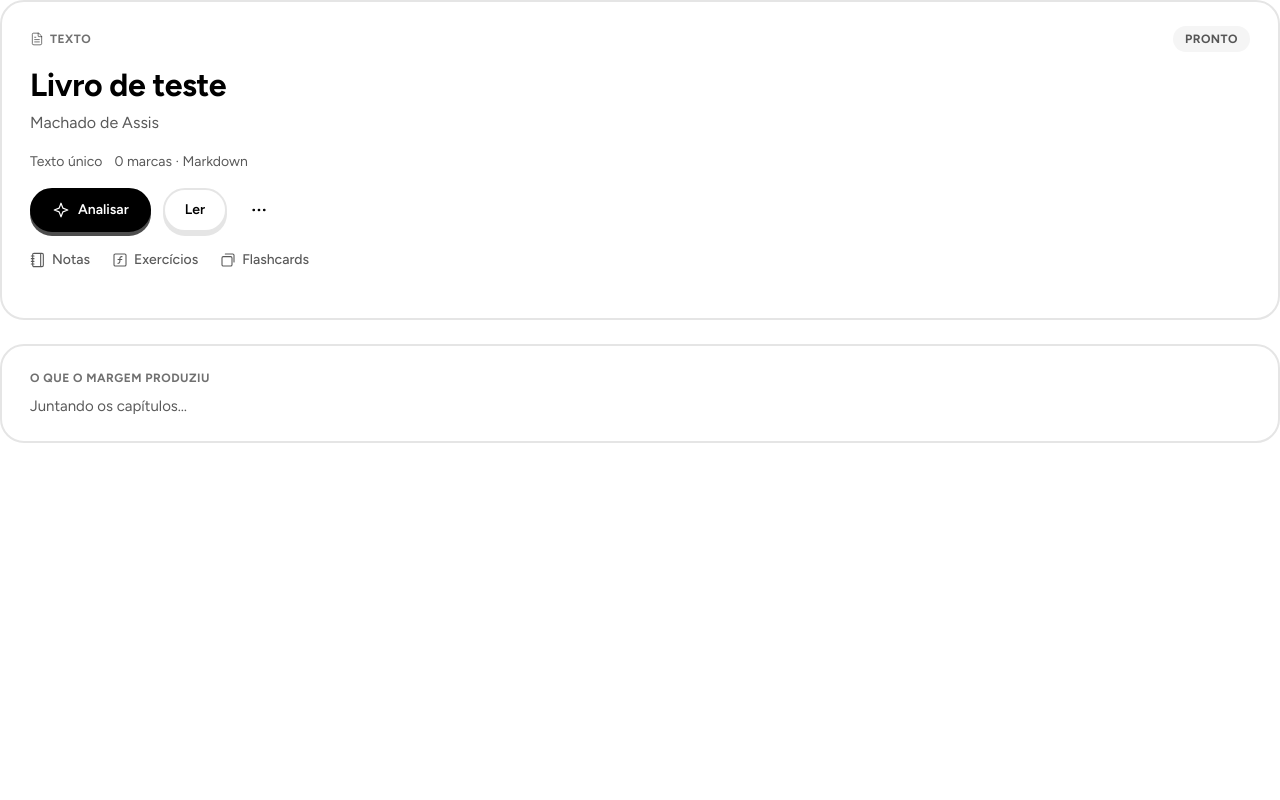
Test: detalhe do documento › mostra limites da canonização; "Analisar" é o botão principal, abre a janela do que criar e mostra o estado
This screenshot has width=1280, height=800.
Click the button named "Opções do documento".
click(259, 210)  # box top-left (239, 190), bottom-right (279, 230)
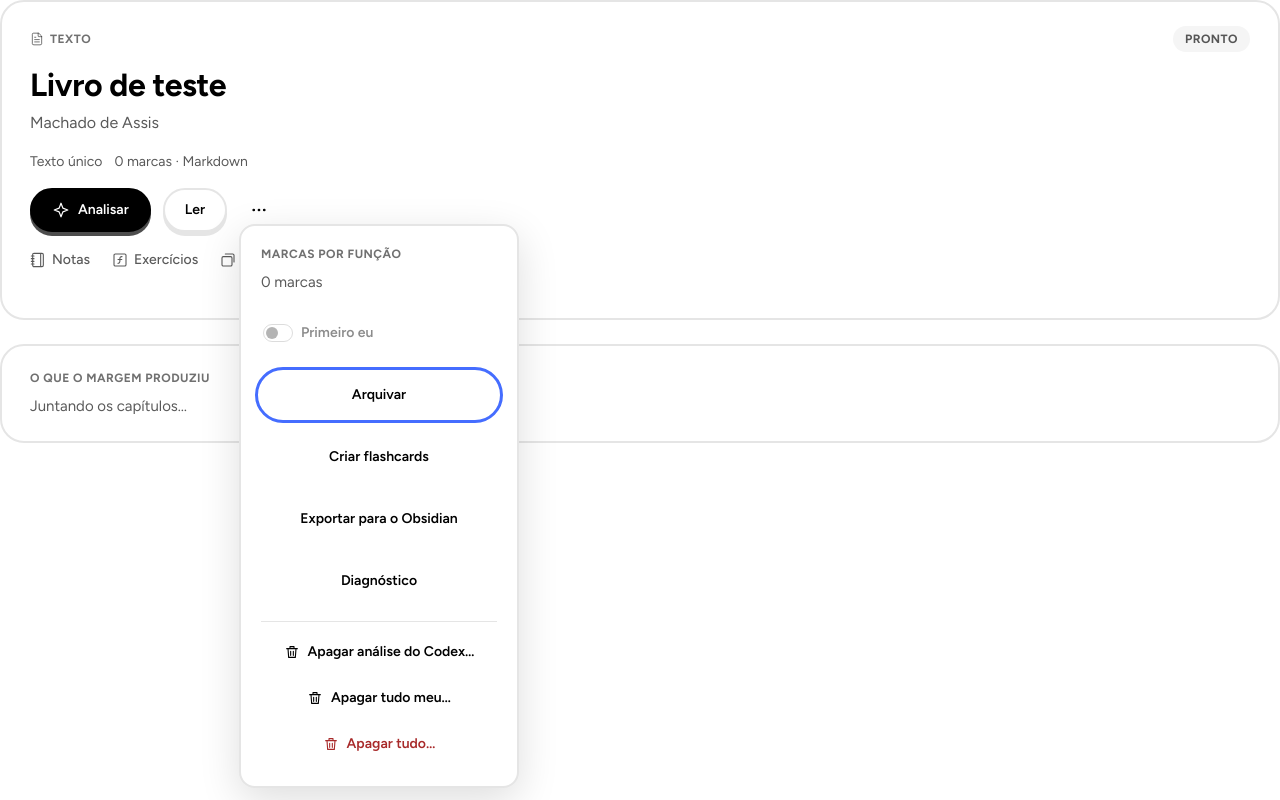
Click the button "Diagnóstico".
click(379, 581)  # box top-left (261, 559), bottom-right (497, 603)
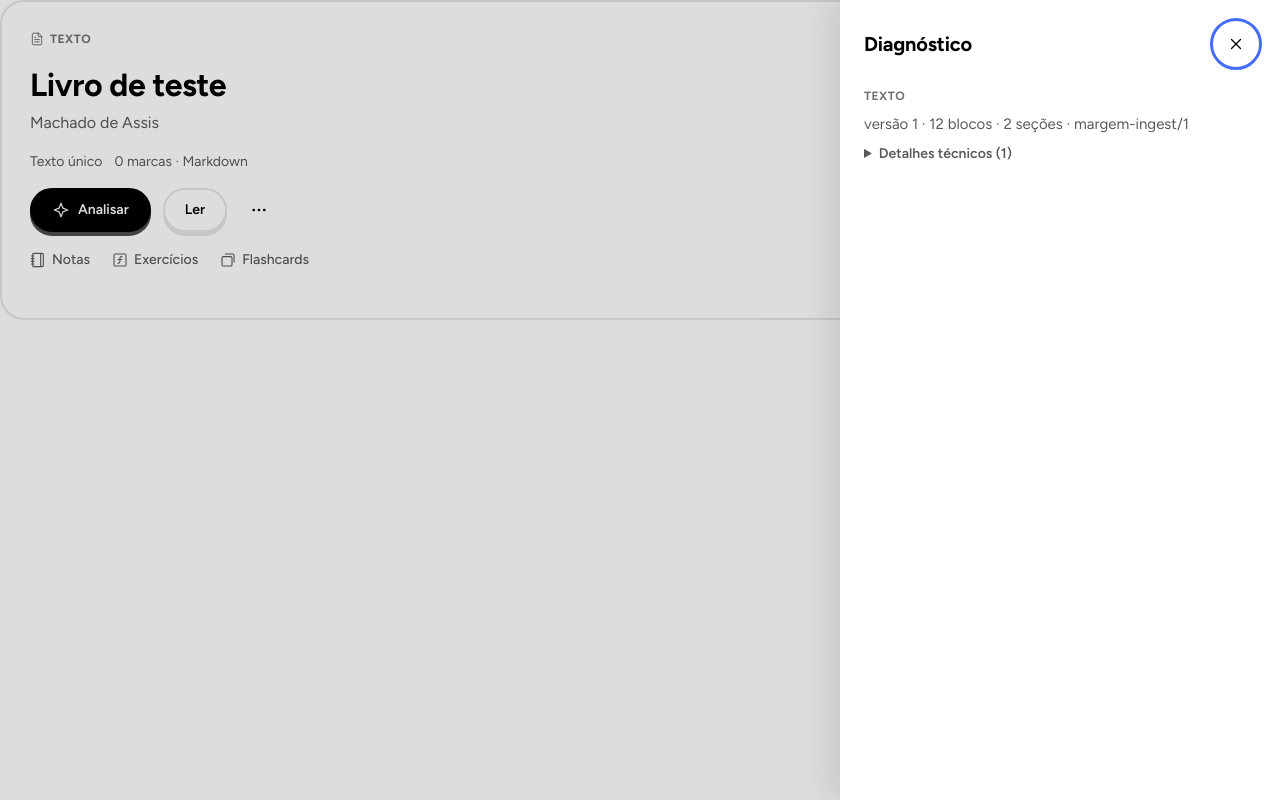
expect the text "versão 1 · 12 blocos · 2 seções · margem-ingest/1" is shown: met, box top-left (864, 115), bottom-right (1189, 133)
Click the button named "Fechar".
click(1236, 44)  # box top-left (1216, 24), bottom-right (1256, 64)
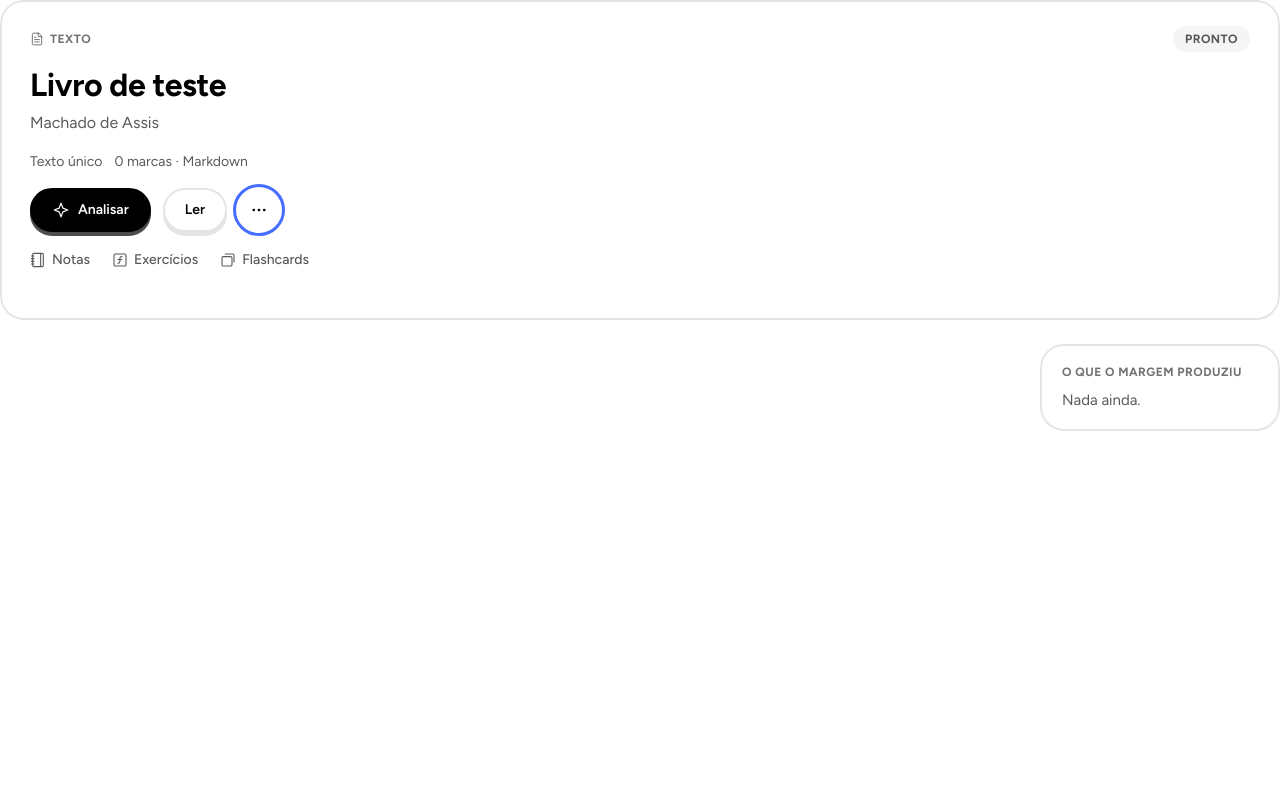
expect the links read "Notas", "Exercícios", "Flashcards", in this order: met, box top-left (30, 246), bottom-right (90, 274); top-left (112, 246), bottom-right (198, 274); top-left (220, 246), bottom-right (309, 274)
Note: O botão abre a janela: o que criar, com o padrão marcado (grifos e relações).
Click the button "Analisar".
click(90, 210)  # box top-left (30, 188), bottom-right (151, 232)
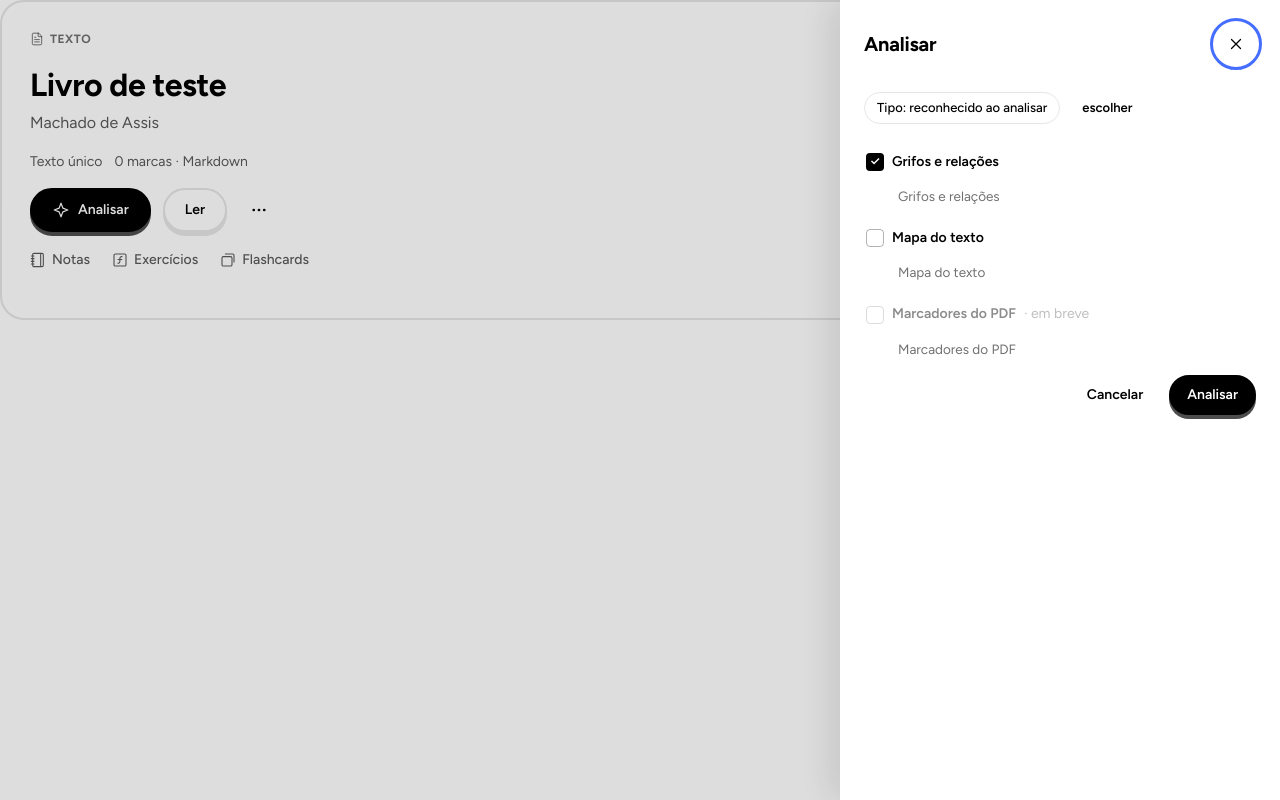
expect the checkbox labelled "Marcadores do PDF · em breve" is disabled: met, box top-left (864, 292), bottom-right (1091, 336)
Note: Texto único: sem "capítulo" nos rótulos.
Click the checkbox labelled "Mapa do texto".
click(925, 238)  # box top-left (864, 216), bottom-right (986, 260)
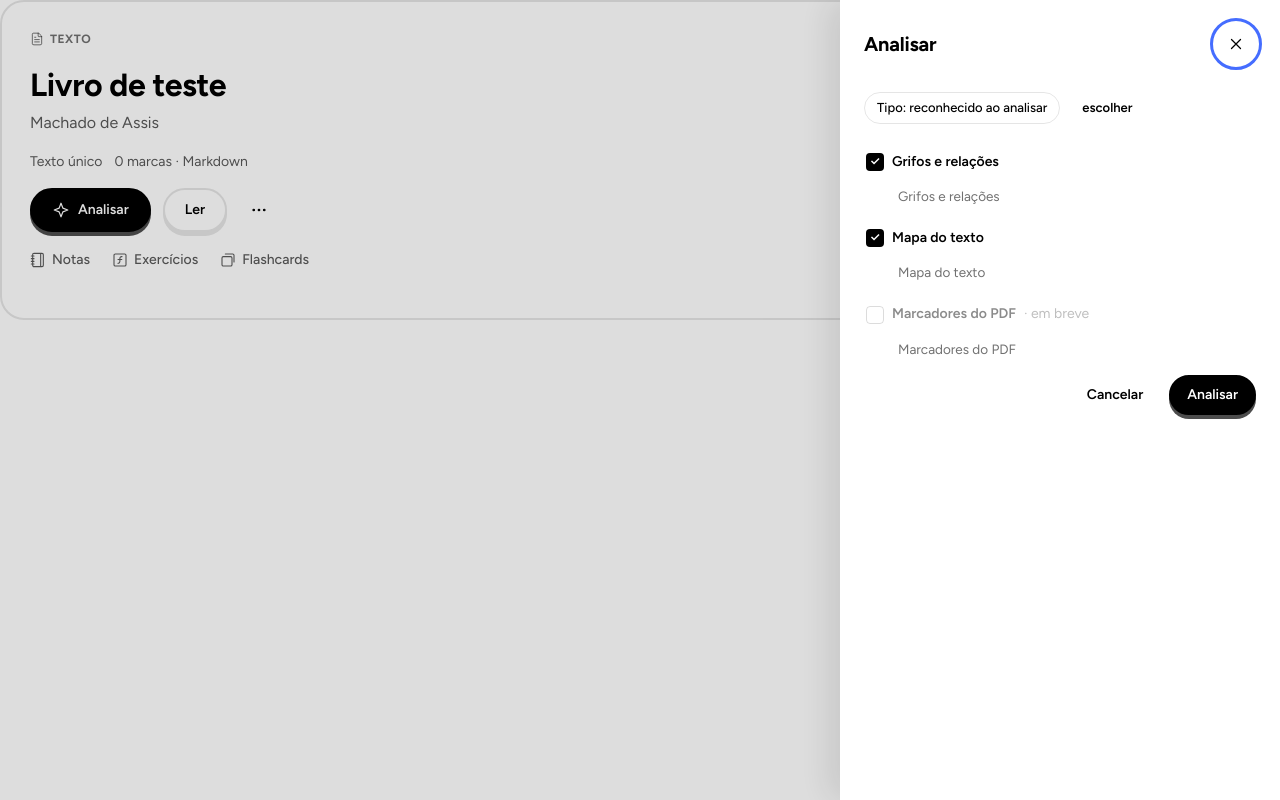
Click the button "Analisar".
click(1213, 395)  # box top-left (1169, 375), bottom-right (1256, 415)
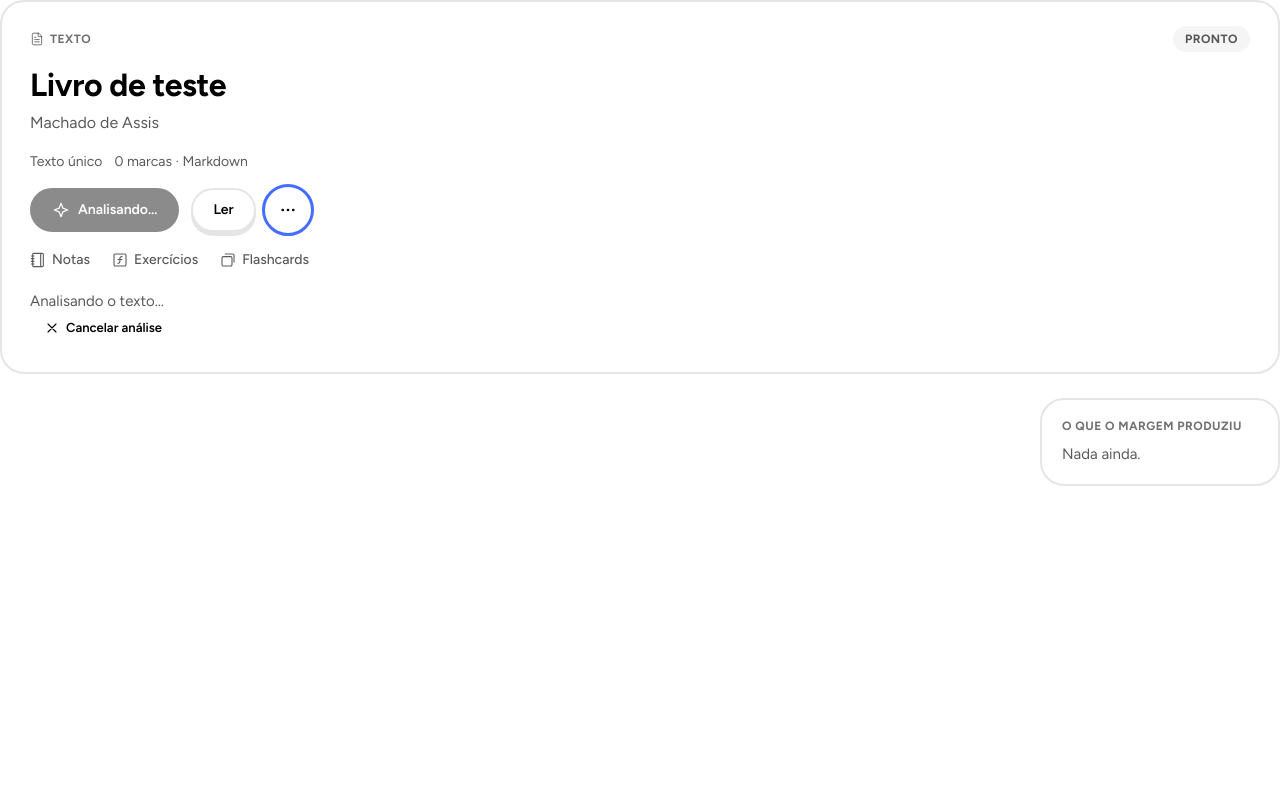
expect the text "Analisando o texto…" is shown: met, box top-left (30, 290), bottom-right (164, 312)
expect the button "Analisar" is gone: met
expect the button "Analisando…" is disabled: met, box top-left (30, 188), bottom-right (179, 232)
